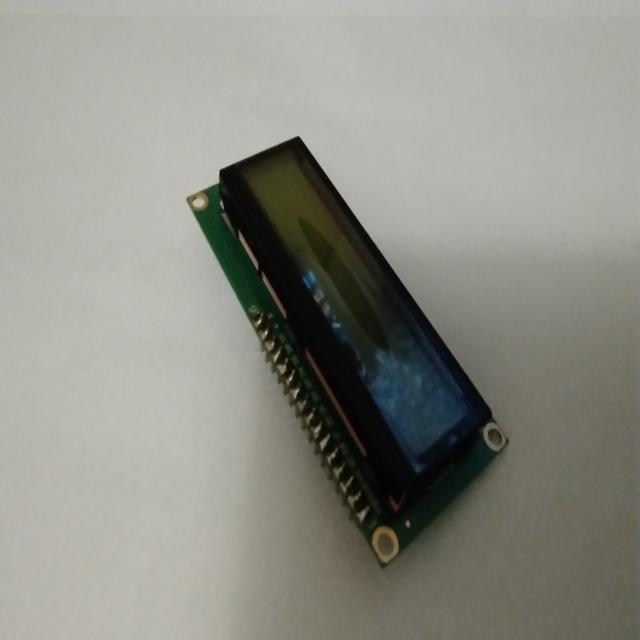lcd: (180, 124, 516, 584)
